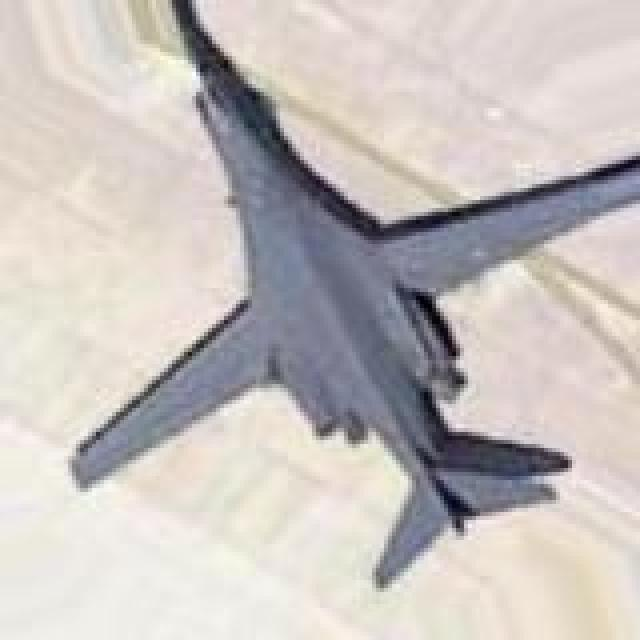B-1_TopDown: (64, 0, 636, 588)
